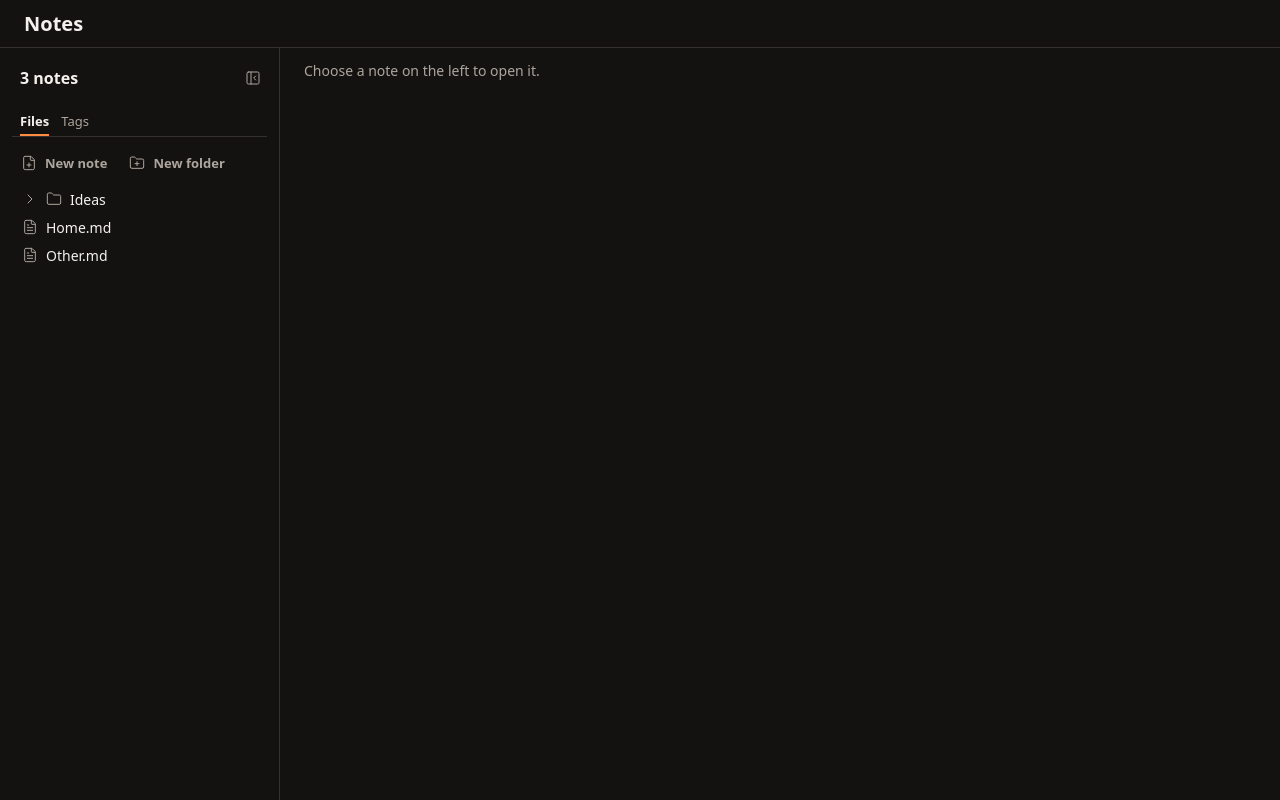
Test: choosing a tag shows its notes and nested tags with folders open; clearing brings all back
Expected: the text "3 notes" is shown, top-left (20, 67), bottom-right (78, 89)
Click the tab "Tags" at (75, 122), box top-left (61, 108), bottom-right (89, 136)
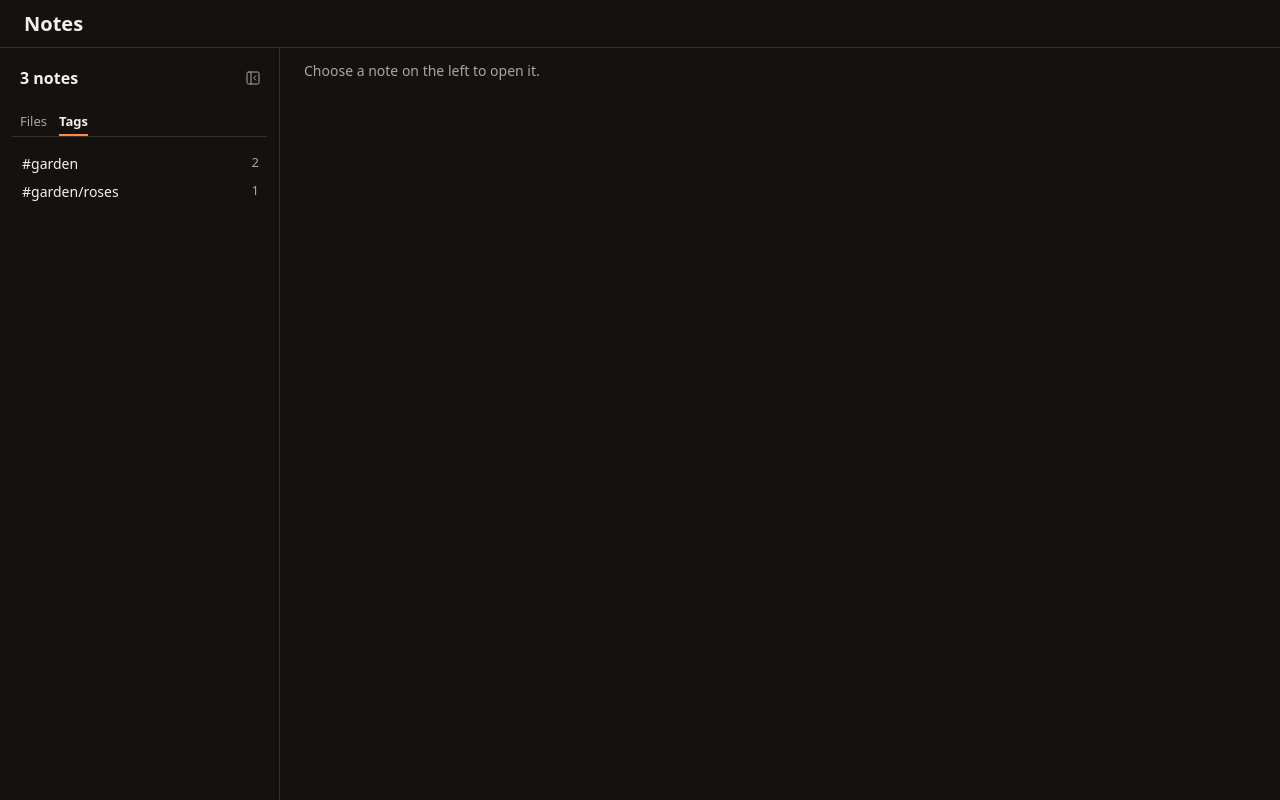
Click the button named "#garden 2 notes" at (140, 163), box top-left (12, 149), bottom-right (267, 177)
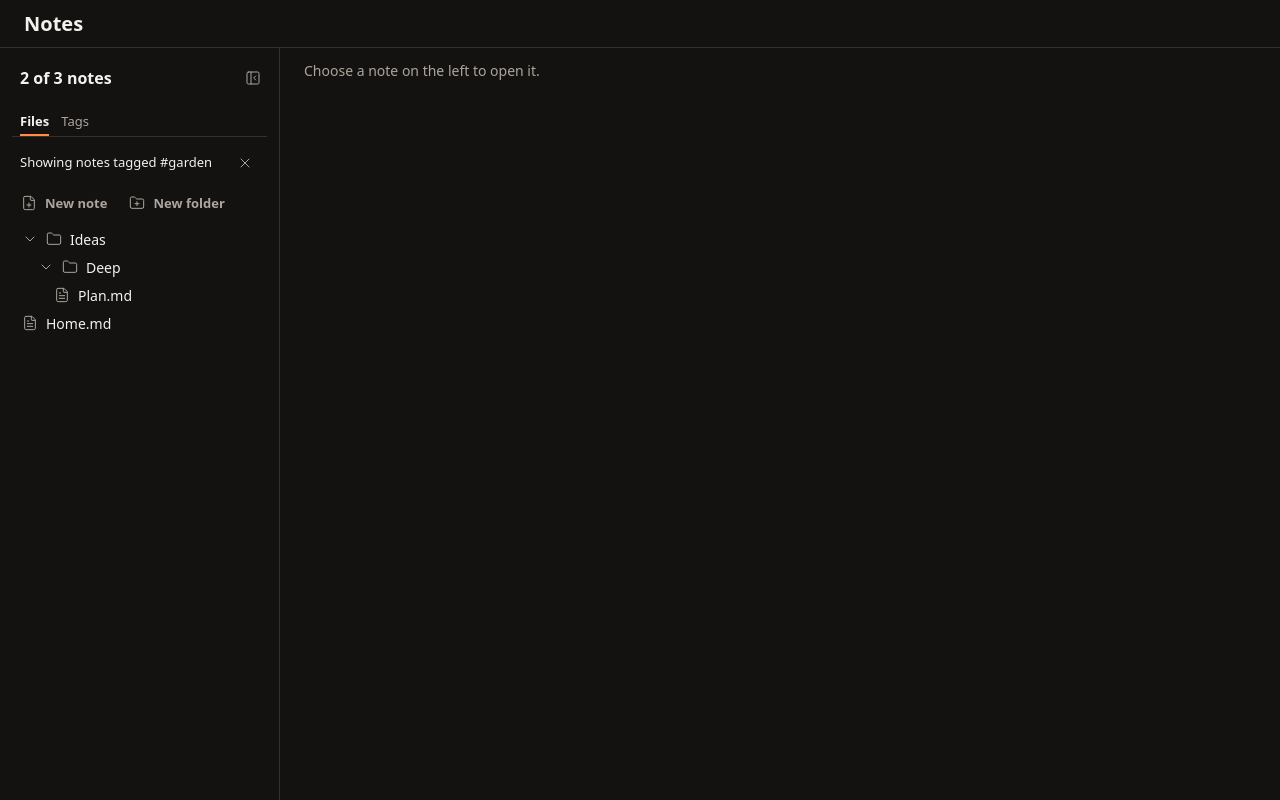
Expected: the text "Showing notes tagged #garden" is shown, top-left (20, 153), bottom-right (212, 173)
Expected: the text "2 of 3 notes" is shown, top-left (12, 68), bottom-right (120, 88)
Expected: the link "Plan.md" is shown, top-left (54, 286), bottom-right (132, 304)
Click the button named "Show all notes" at (245, 163), box top-left (231, 149), bottom-right (259, 177)
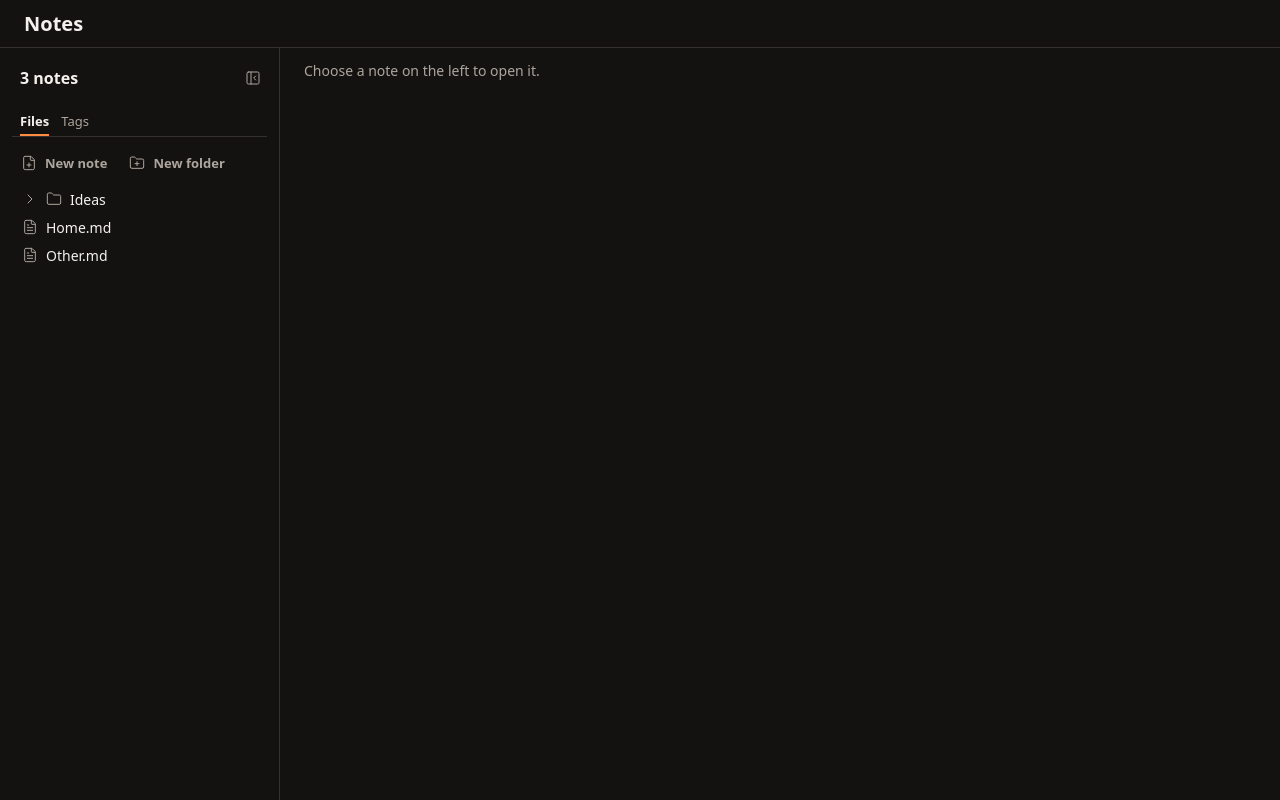
Expected: the text "3 notes" is shown, top-left (20, 67), bottom-right (78, 89)
Expected: the link "Other.md" is shown, top-left (22, 246), bottom-right (108, 264)
